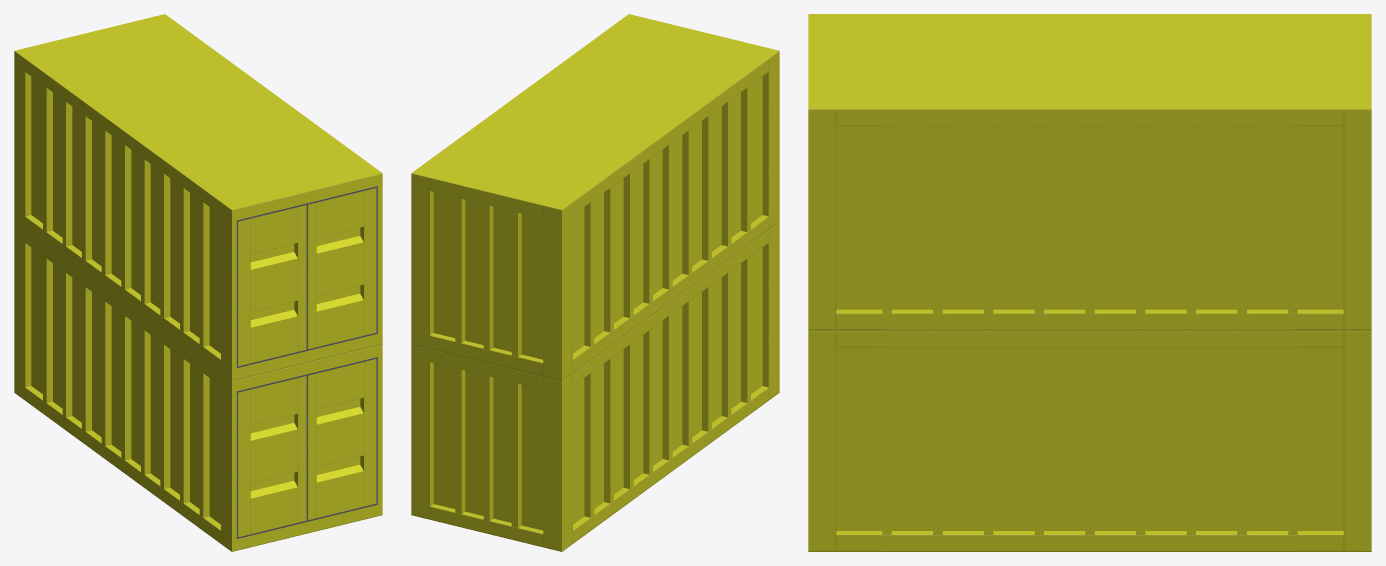
Rendered from OB_Container_62 1.fbx.
The picture shows the model from 3 angles, left to right: view 1: azimuth 30°, elevation 25°; view 2: azimuth 150°, elevation 25°; view 3: azimuth 270°, elevation 25°; orthographic projection. The views are drawn at different scales.
Parts seen in each view (by area): view 1: Container_62; view 2: Container_62; view 3: Container_62.
Boxes of the visible parts, x1,y1,x2,y2 form: Container_62: (14,14,382,551); Container_62: (411,14,779,551); Container_62: (808,14,1371,551).
Size of the model in its own units: 240 by 520 by 600.
